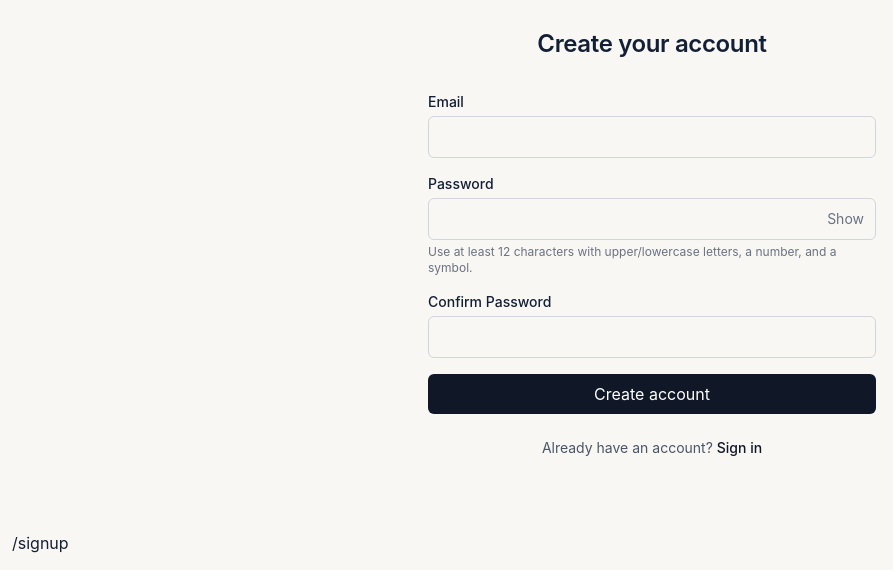
Test case: signup email flow › rejects mismatched passwords before contacting the provider
Type "new@example.test" into the field labelled "Email" at (652, 137), box x1=428 y1=116 x2=876 y2=158
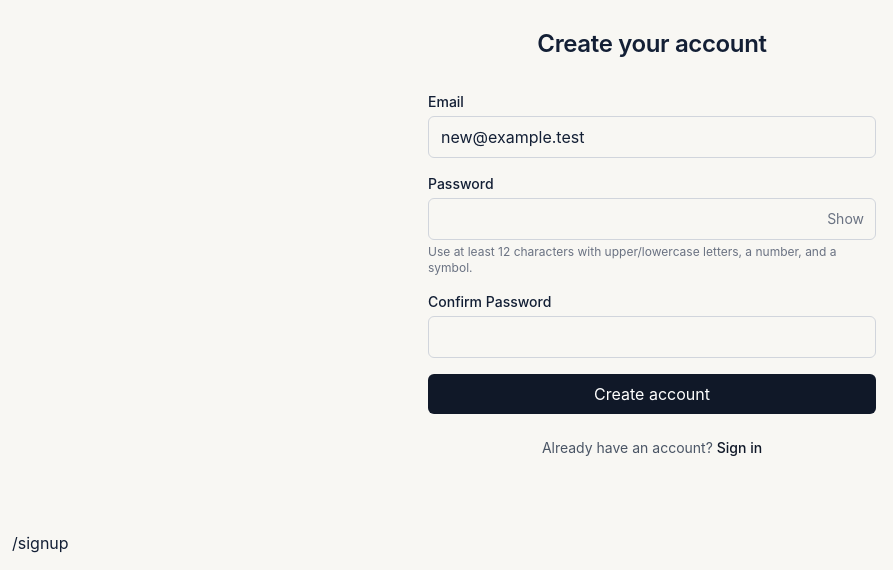
Type "Str0ng!Passw0rd" into the password field labelled "Password" at (652, 219), box x1=428 y1=198 x2=876 y2=240
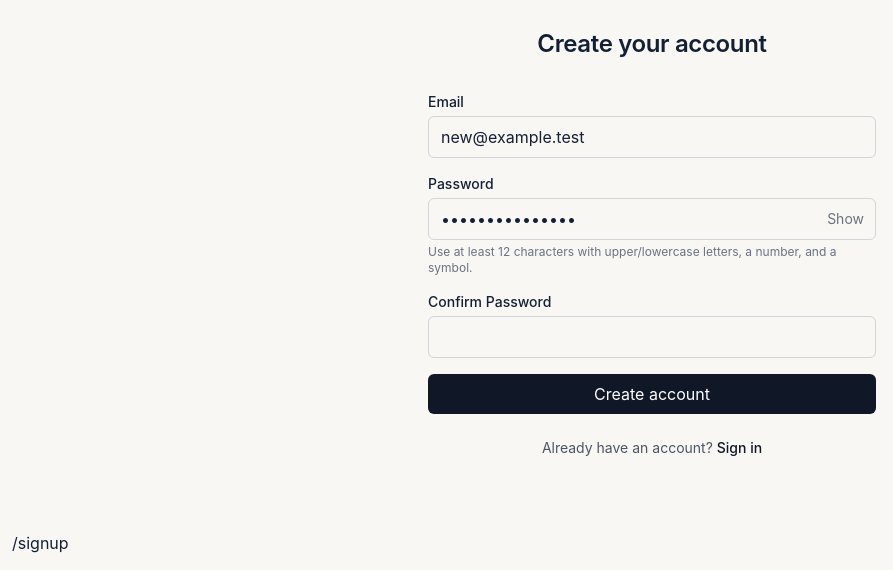
Type "Different!Pass1" into the password field labelled "Confirm Password" at (652, 337), box x1=428 y1=316 x2=876 y2=358
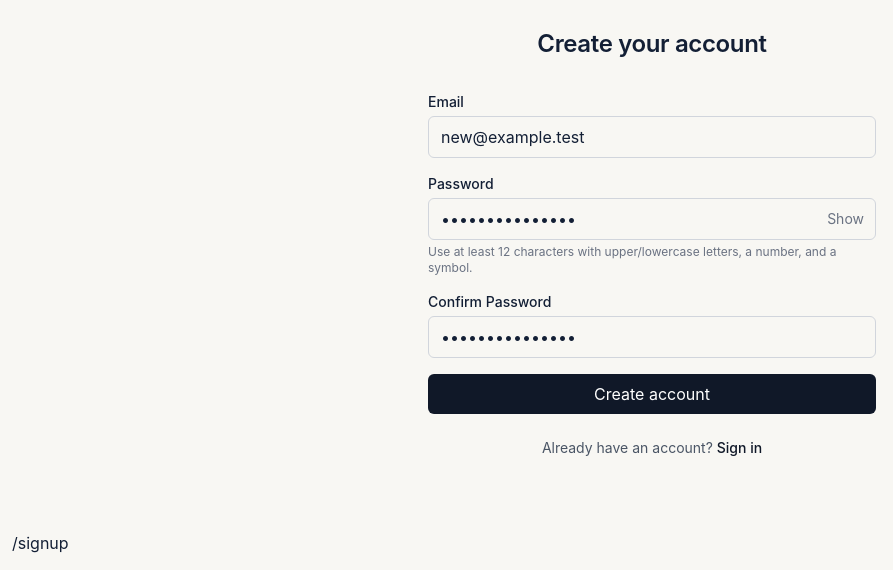
Click the button "Create account" at (652, 394), box x1=428 y1=374 x2=876 y2=414
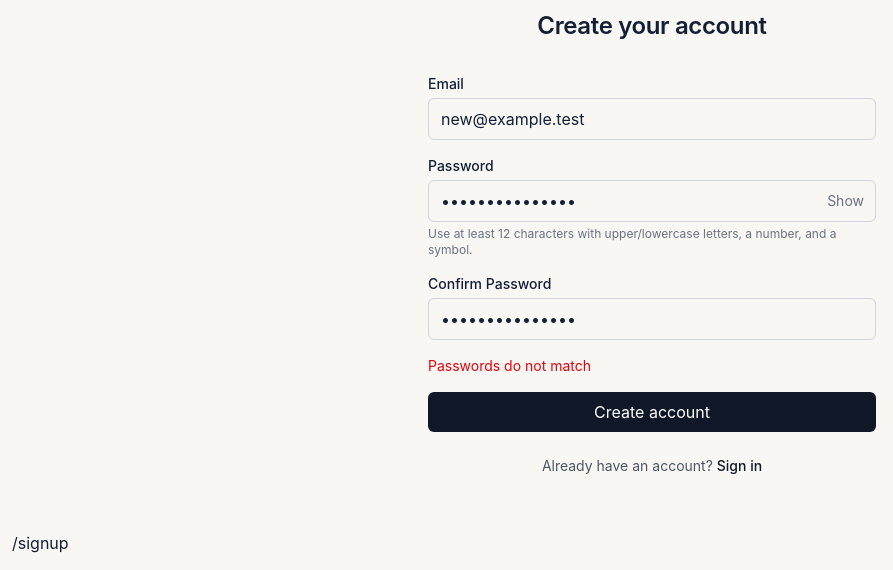
expect the text "Passwords do not match" is shown: met, box x1=428 y1=357 x2=591 y2=374
